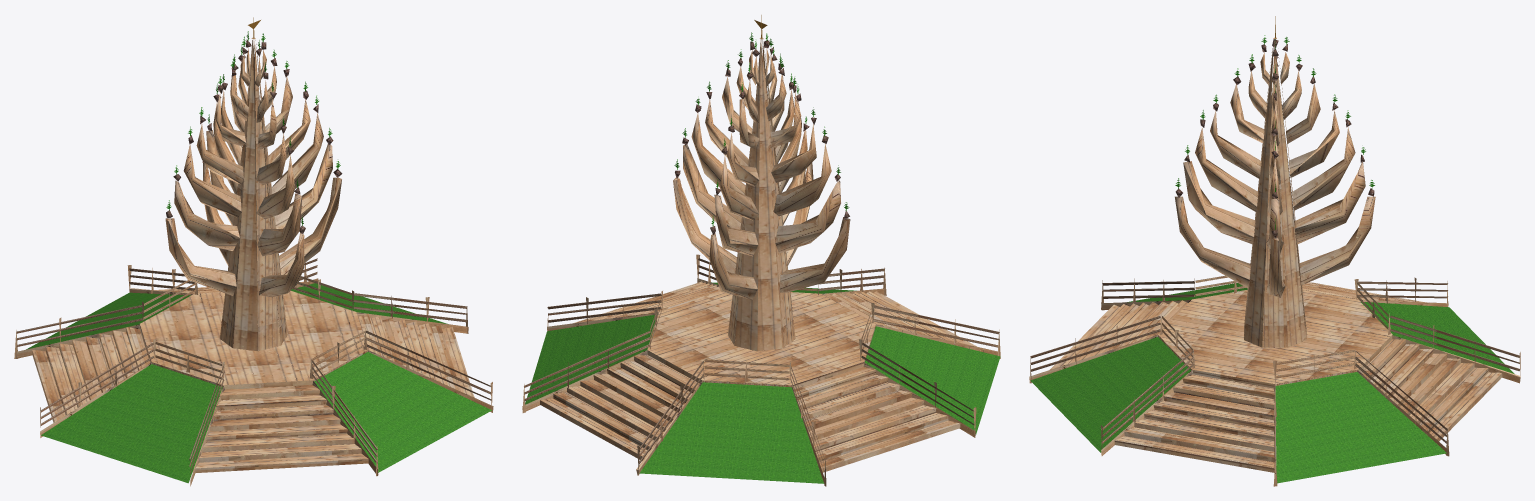
File: square.glb
The picture shows the model from 3 angles, left to right: view 1: azimuth 30°, elevation 25°; view 2: azimuth 150°, elevation 25°; view 3: azimuth 270°, elevation 25°; orthographic projection.
Parts seen in each view (by area): view 1: Площадь, Аал луук мас; view 2: Площадь, Аал луук мас; view 3: Площадь, Аал луук мас.
Boxes of the visible parts, x1,y1,x2,y2 form: Площадь: [14, 258, 493, 486]; Аал луук мас: [165, 17, 342, 351]; Площадь: [522, 254, 1000, 486]; Аал луук мас: [673, 15, 850, 351]; Площадь: [1029, 275, 1520, 486]; Аал луук мас: [1175, 16, 1375, 347].
Bounding box in the file's own units: 18.8 × 15.58 × 18.8.
7 materials, 5 textured.
